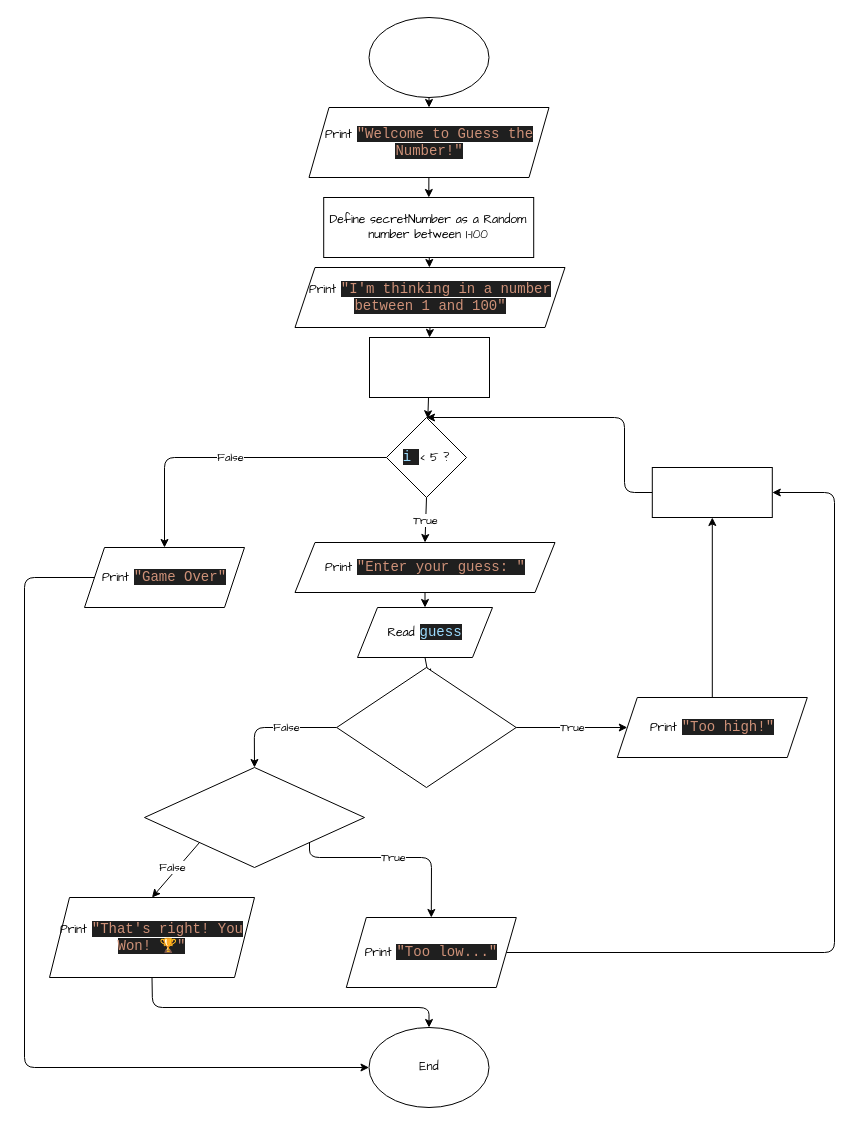
Some shapes in this 860 by 1125 pixel diagram are drawn without their labels. Each missing label, with the centre of its shape:
"Define i as 0" belongs at point 429,367.
"guess < secretNumber ?" belongs at point 254,817.
"guess > secretNumber ?" belongs at point 426,727.
"i++" belongs at point 711,492.
"Start" belongs at point 428,57.
